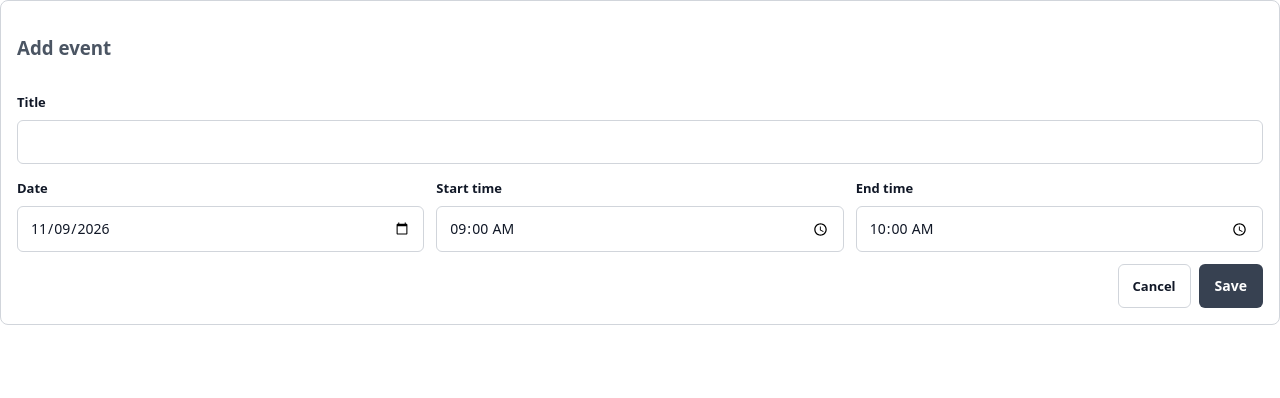
Scenario: EventForm › rejects an end time that is not after the start time (FR-M3-04)
In the field labelled "Title": (640, 142) [17,120,1263,164], type "Swimming"
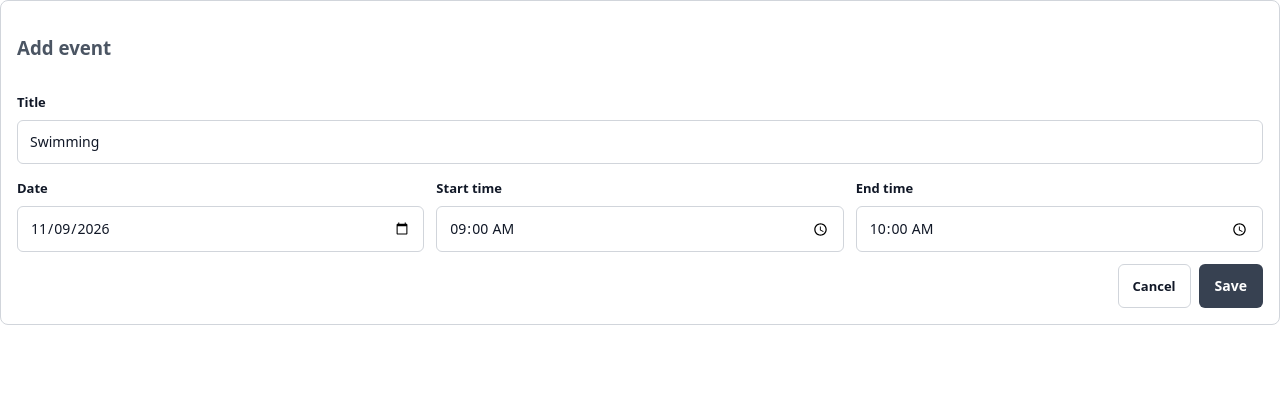
Replace the text in the time field labelled "Start time" with "15:00": (640, 229) [436,206,844,252]
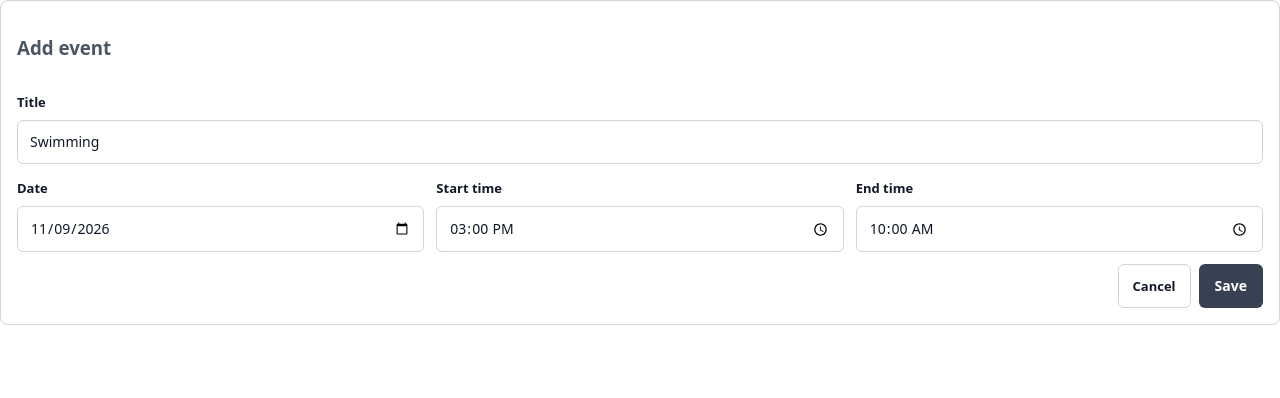
Replace the text in the time field labelled "End time" with "14:00": (1059, 229) [856,206,1263,252]
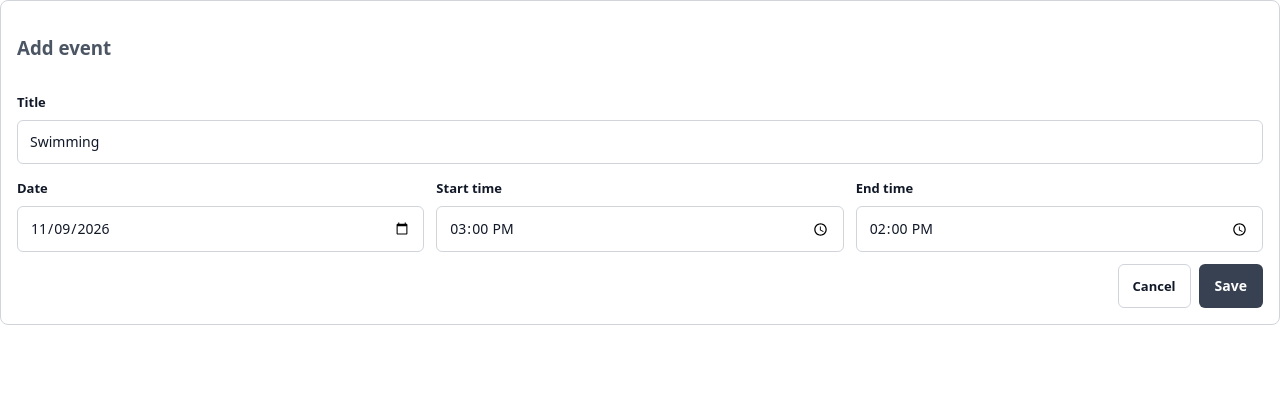
Click the button "Save": (1231, 286) [1199,264,1263,308]
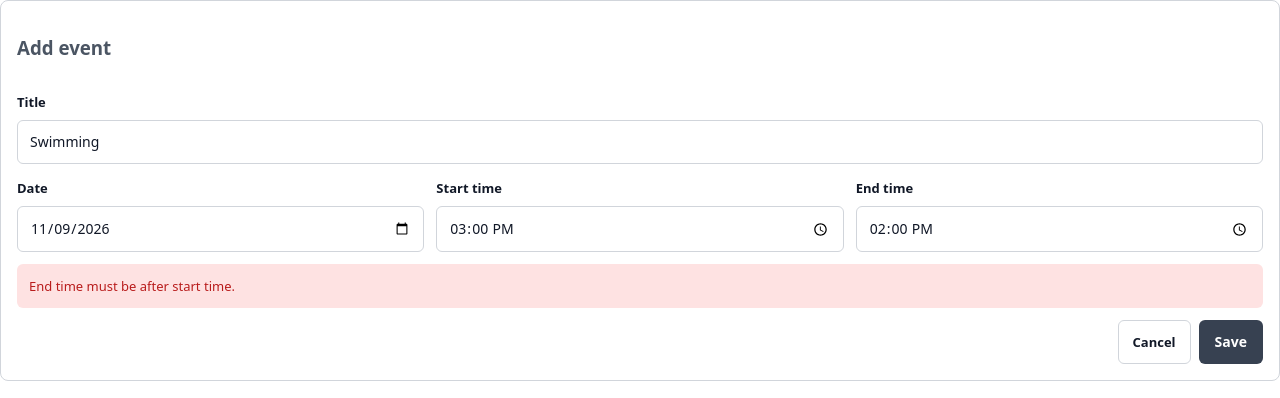
expect the message reads "End time must be after start time.": met, box [29,277,235,295]
